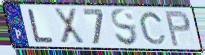7: (81, 8, 106, 47)
C: (138, 11, 168, 46)
L: (27, 8, 56, 44)
P: (163, 10, 192, 48)
S: (110, 7, 141, 48)
X: (53, 7, 87, 47)
